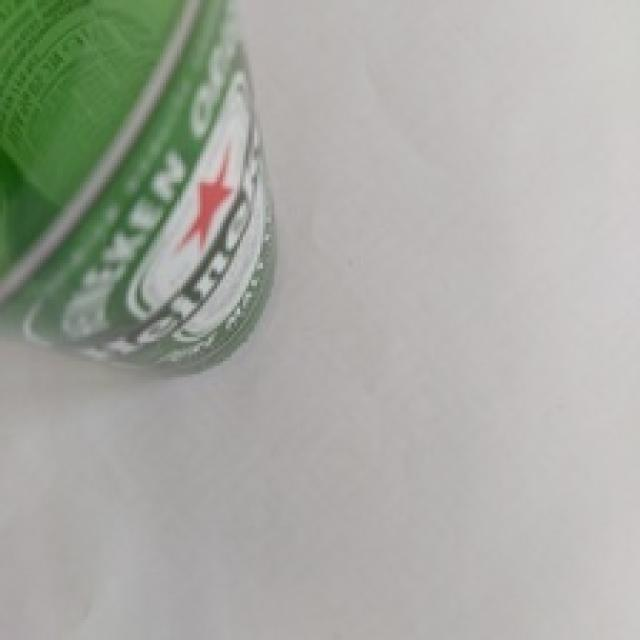Glass: (0, 0, 276, 377)
